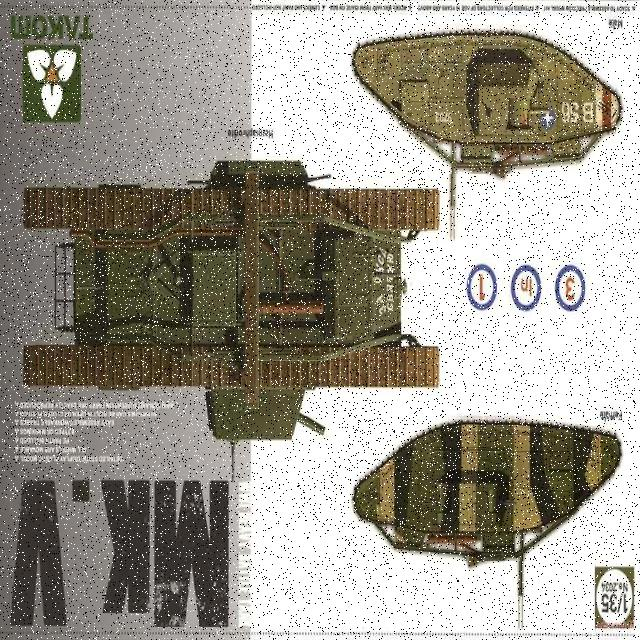MIL_MBT: (16, 159, 445, 416), (339, 418, 614, 561), (360, 27, 615, 173)
